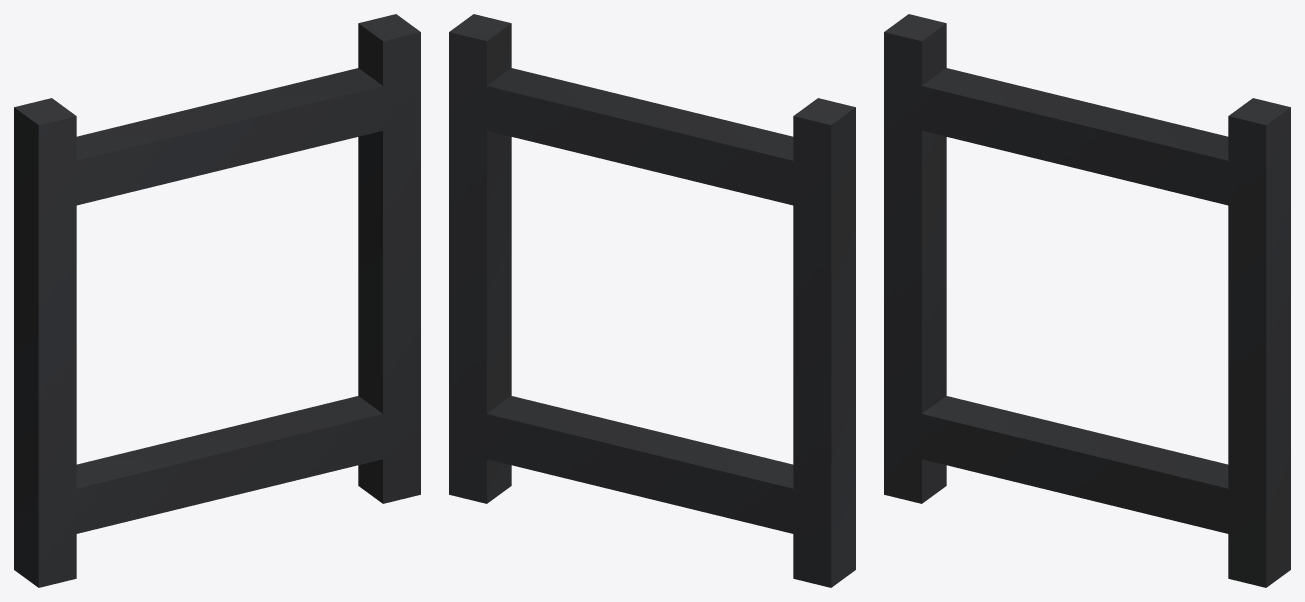
The model's file is Wall_SteelColumn1.fbx.
3 views of the same model, side by side, from view 1: azimuth 30°, elevation 25°; view 2: azimuth 150°, elevation 25°; view 3: azimuth 330°, elevation 25° (orthographic).
Parts seen in each view (by area): view 1: Wall_SteelColumn1; view 2: Wall_SteelColumn1; view 3: Wall_SteelColumn1.
Part boxes in pixels (x1,y1,x2,y2): Wall_SteelColumn1: [14, 14, 420, 587]; Wall_SteelColumn1: [449, 14, 855, 587]; Wall_SteelColumn1: [884, 14, 1290, 587].
Bounding box in the file's own units: 0.3576 × 0.4137 × 0.04.
Materials: 1 (1 with a texture image).
